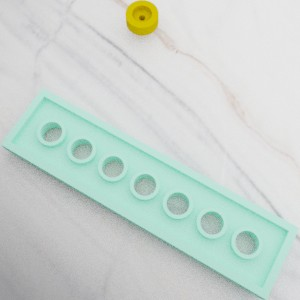lego: (0, 87, 299, 300), (125, 0, 158, 35)
